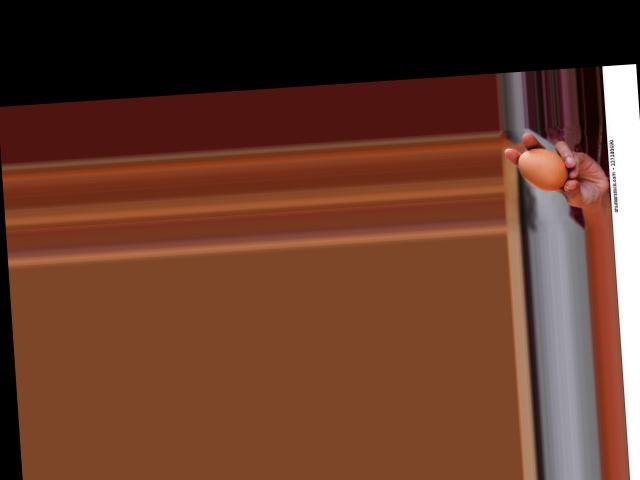egg: (517, 145, 568, 191)
